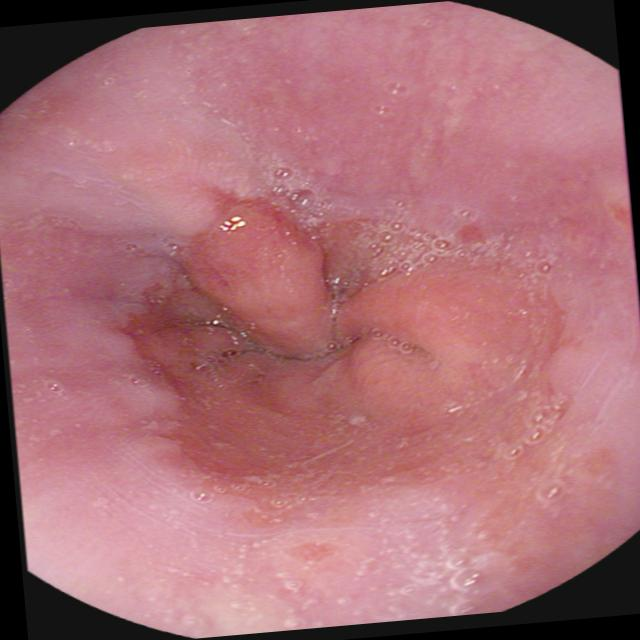esophagitis: (99, 183, 609, 576)
